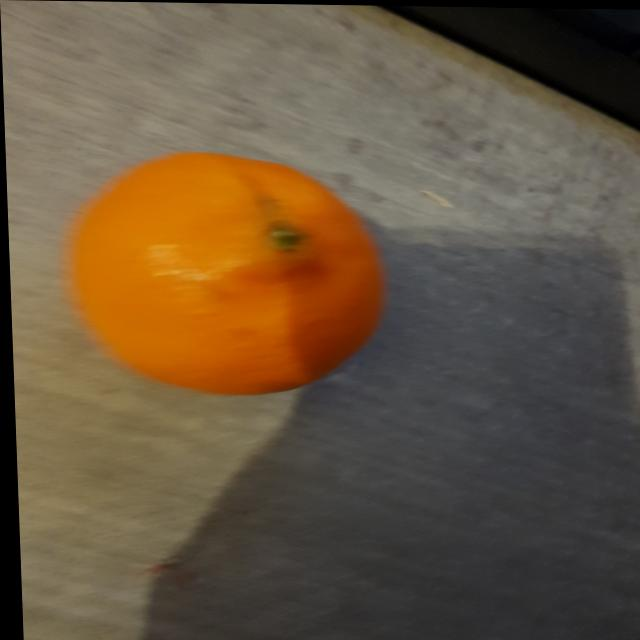Orange: (58, 152, 386, 398)
